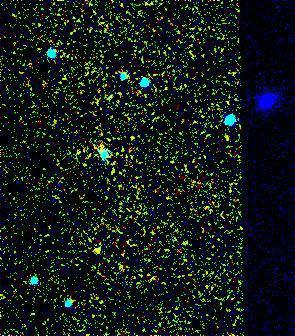star: (117, 125, 147, 155)
